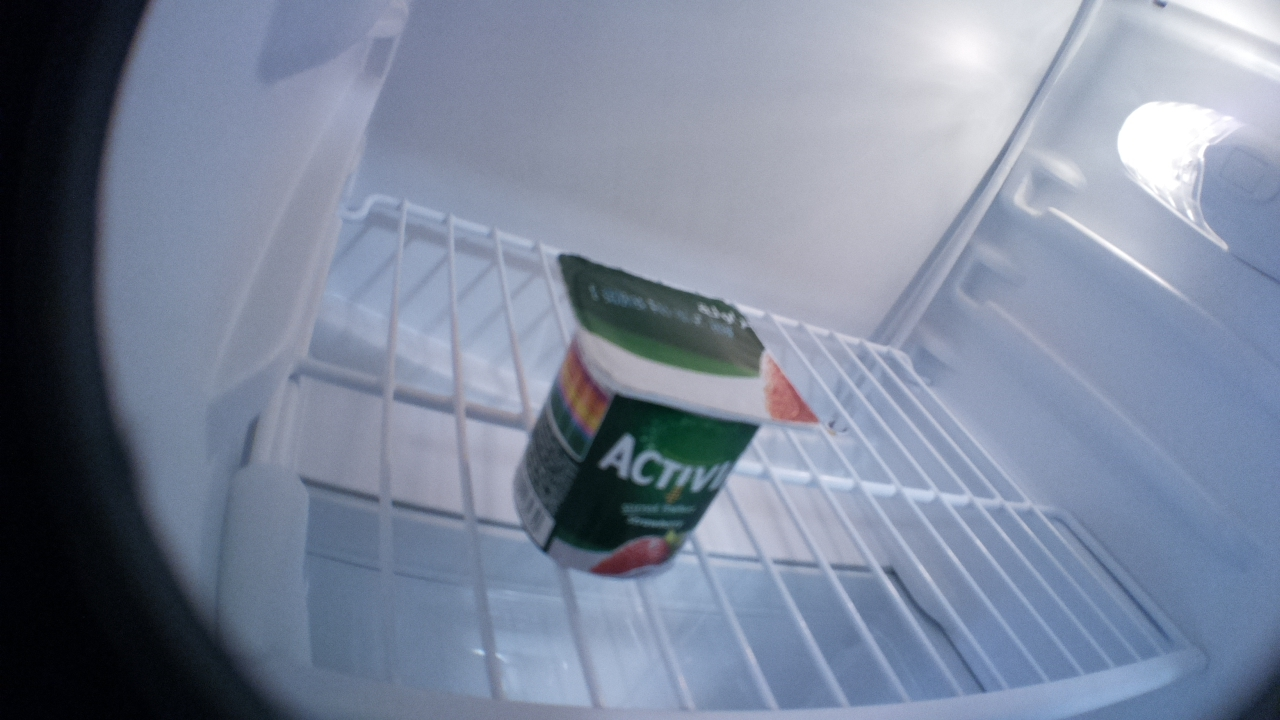yoghurt: (511, 254, 824, 583)
